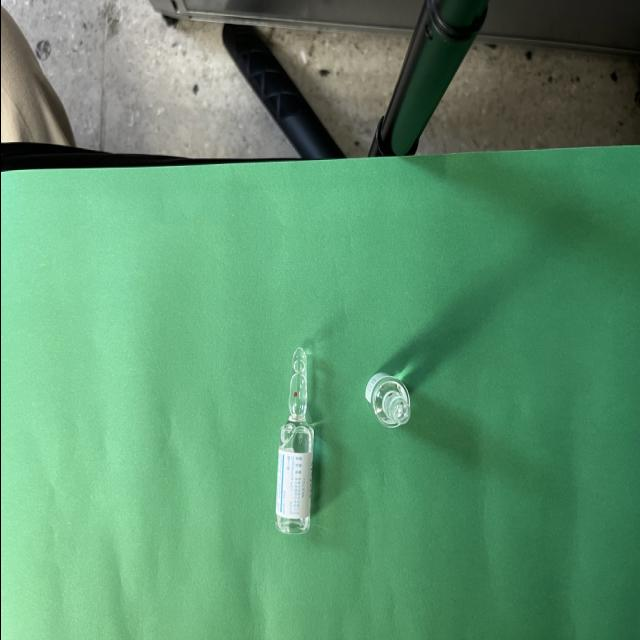Ampoules: (275, 347, 315, 533), (364, 372, 410, 428)
